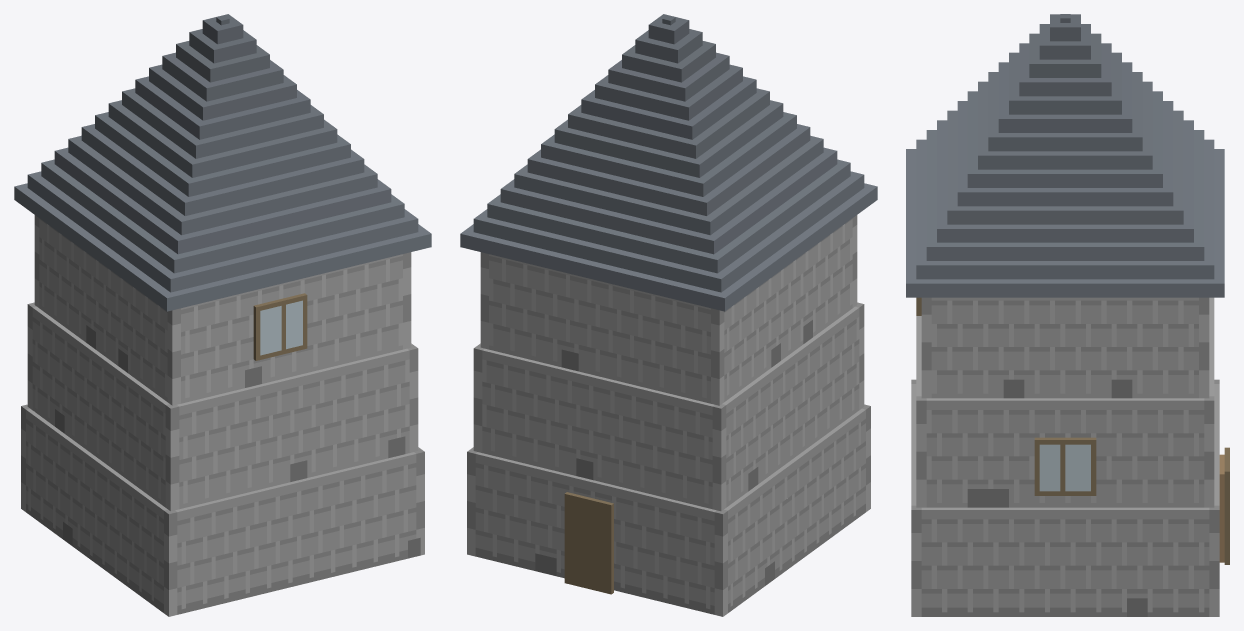
Rendered from torre_militar_03.glb.
3 renders of one model, left to right at view 1: azimuth 30°, elevation 25°; view 2: azimuth 150°, elevation 25°; view 3: azimuth 270°, elevation 25°, orthographic. The views are drawn at different scales.
Visible parts, largest first — view 1: torre_militar_03; view 2: torre_militar_03; view 3: torre_militar_03.
Boxes of the visible parts, left/top/right/bottom form: torre_militar_03: left=14, top=14, right=431, bottom=616; torre_militar_03: left=460, top=14, right=877, bottom=616; torre_militar_03: left=906, top=14, right=1229, bottom=616.
Size of the model in its own units: 6.2 by 11.5 by 6.3.
